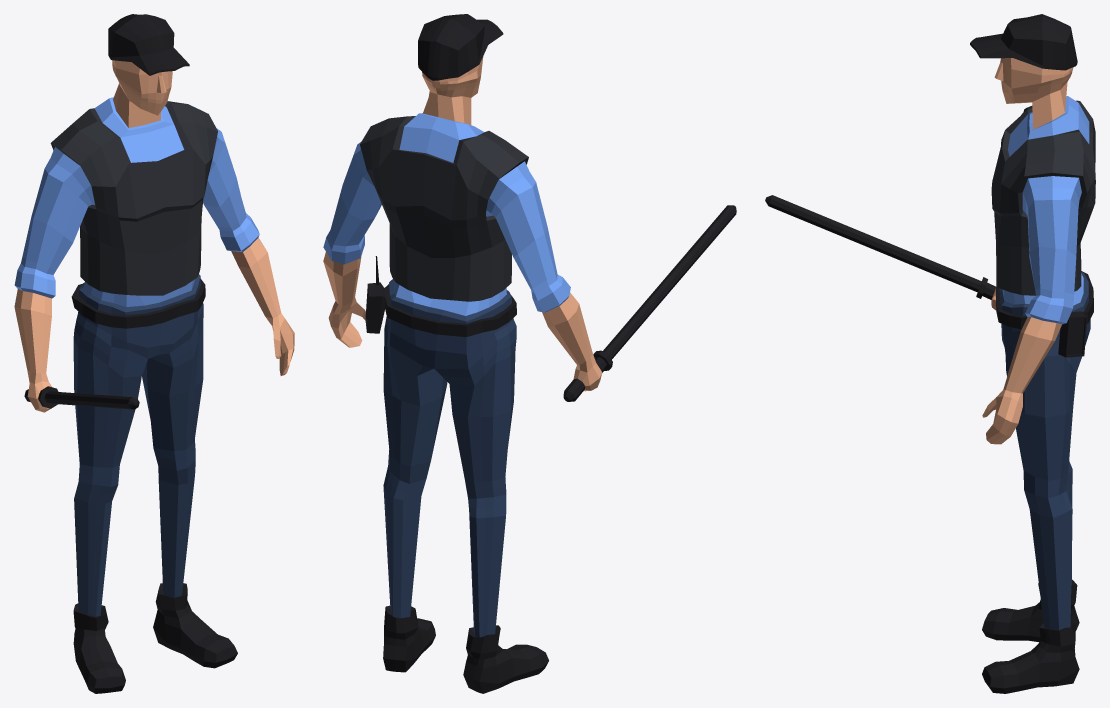
Rendered from guard.obj.
The picture shows the model from 3 angles, left to right: view 1: azimuth 30°, elevation 25°; view 2: azimuth 150°, elevation 25°; view 3: azimuth 270°, elevation 25°; orthographic projection.
Size of the model in its own units: 0.8314 by 1.81 by 0.8416.
